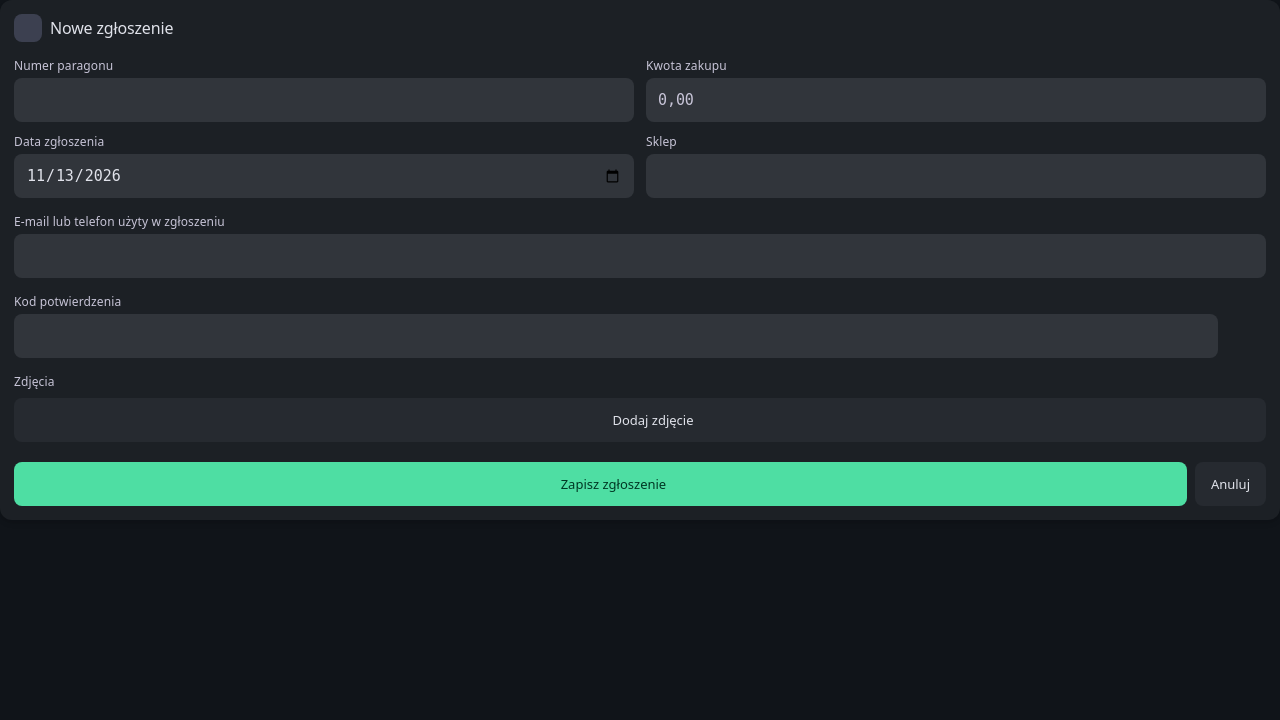
Scenario: EntryFormV2 › rejects an invalid amount
This screenshot has width=1280, height=720.
Type "abc" into the field labelled "Kwota zakupu" at {"x": 956, "y": 100}, box [646,78,1266,122]
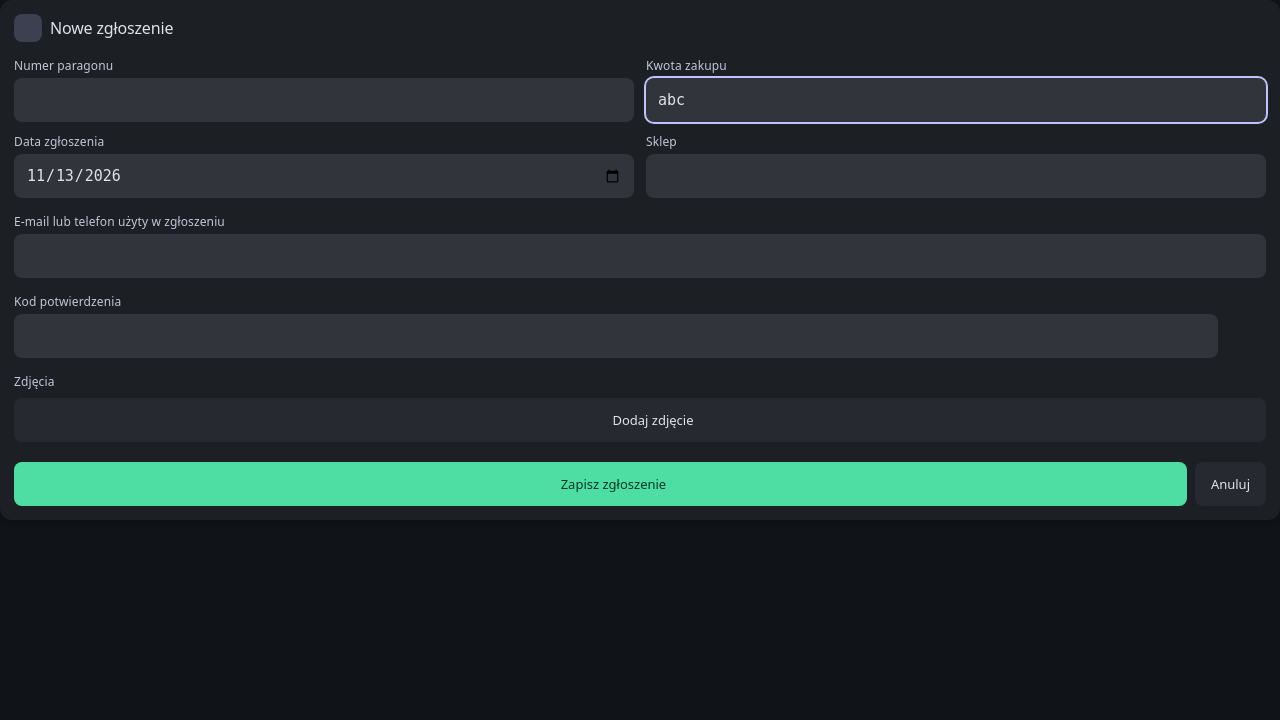
Click the button "Zapisz zgłoszenie" at {"x": 600, "y": 484}, box [14,462,1187,506]
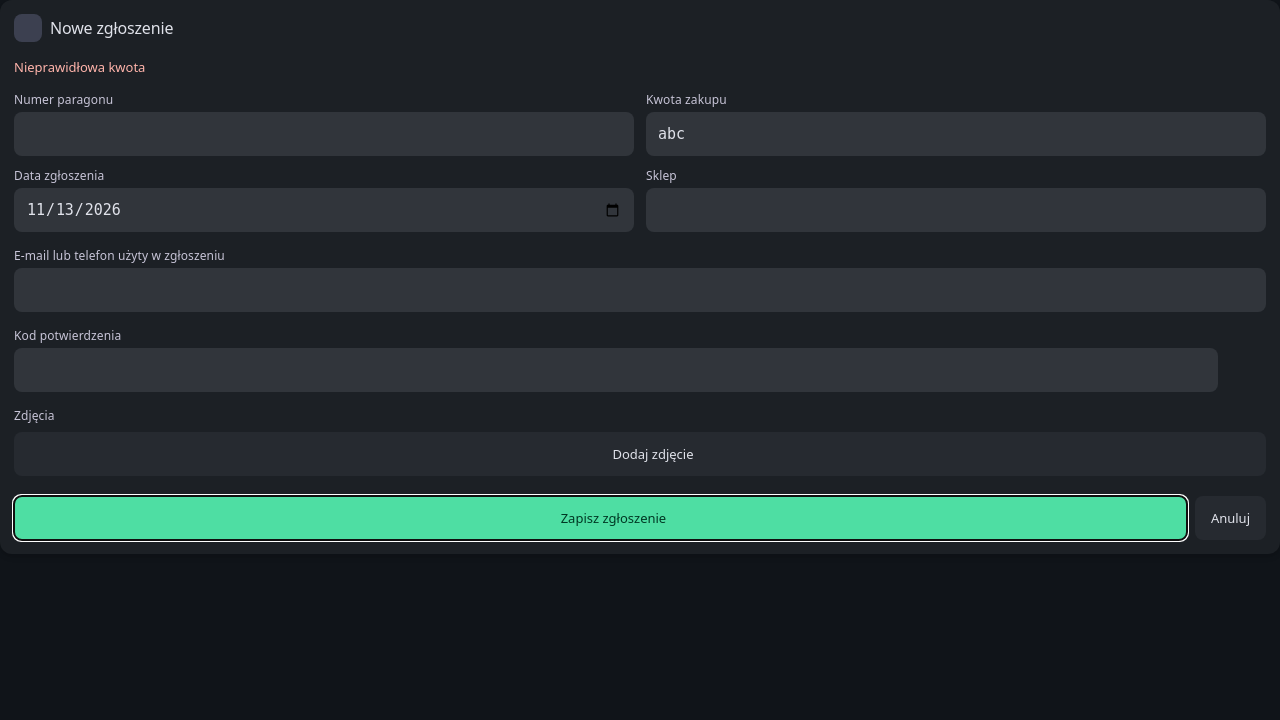
Expected: the text "Nieprawidłowa kwota" is shown, [14,58,145,76]
